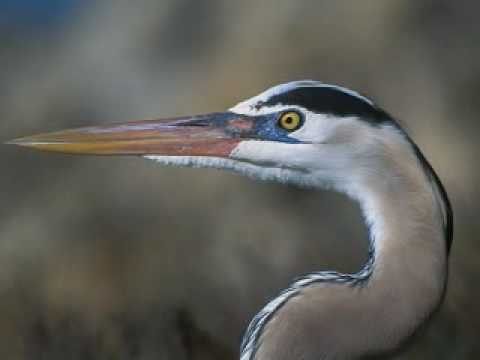heron: (1, 79, 460, 359)
